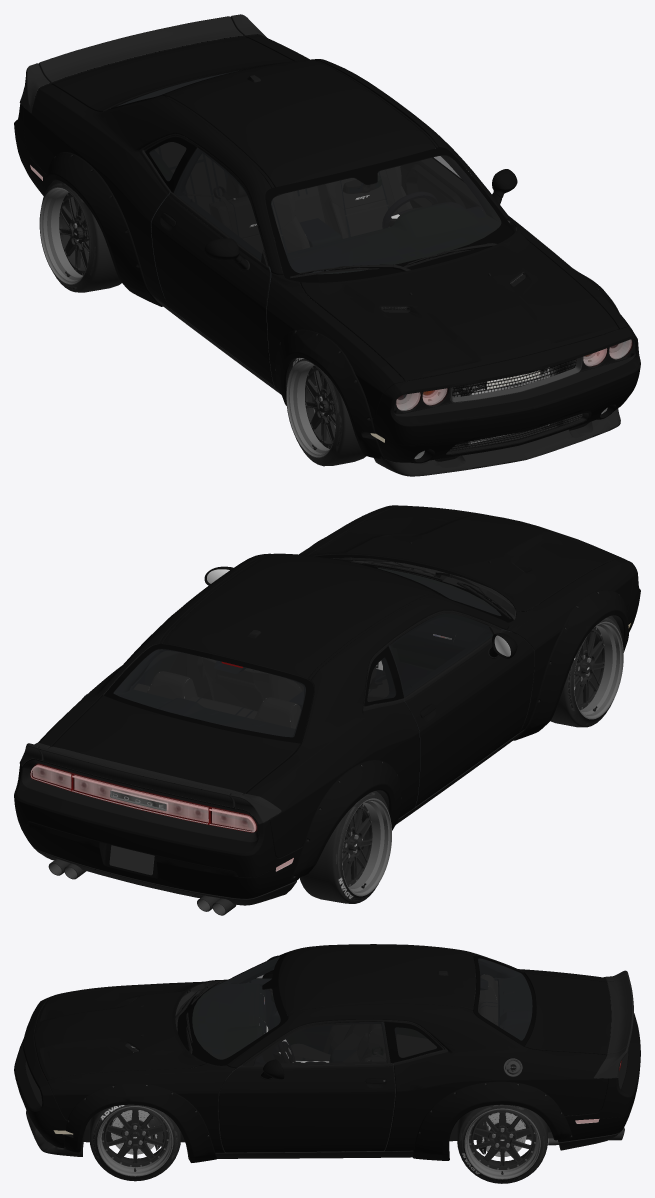
The model's file is car.glb.
The picture shows the model from 3 angles, top to bottom: view 1: azimuth 30°, elevation 25°; view 2: azimuth 150°, elevation 25°; view 3: azimuth 270°, elevation 25°; orthographic projection. The views are drawn at different scales.
Visible parts, largest first — view 1: LB_NFS:M_Carpaint_Max.011_CarPaint_0, LB_NFS:M_Interior_Max_inerior_0, LB_NFS:M_Glass_WindowRight_Max.004_Windwos_0, LB_NFS:M_Carpaint_Max.011_CarPAint_Plastic_0, LB_NFS:M_Opaque_ChromeSmooth_Max.003_chrome_0, LB_NFS:M_Glass_WindowSurroundRight_Max_glass_surr_0, off2, off1, LB_NFS:M_Chassis_Max.004_chassis_0, polySurface628_GR:Toyota_LBGRSupraRewardRecycled_2020_Wheel1, LB_NFS:M_GrilleA_Max_Grille_A_0, polySurface622_GR:Toyota_LBGRSupraRewardRecycled_2020_Wheel1 (+2 smaller); view 2: LB_NFS:M_Carpaint_Max.011_CarPaint_0, LB_NFS:M_Interior_Max_inerior_0, LB_NFS:M_Glass_WindowRight_Max.004_Windwos_0, LB_NFS:M_Carpaint_Max.011_CarPAint_Plastic_0, LB_NFS:M_Opaque_PlasticRoughBlack_Max.008_Plastic_R_0, LB_NFS:M_Glass_WindowSurroundRight_Max_glass_surr_0, LB_NFS:M_Light_Max.006_Light_0, LB_NFS:M_LightGlass_Clear_Max.003_red_glass_0, off2, off1, LB_NFS:M_Opaque_ChromeSmooth_Max.003_chrome_0, polySurface628_GR:Toyota_LBGRSupraRewardRecycled_2020_Wheel1 (+4 smaller); view 3: LB_NFS:M_Carpaint_Max.011_CarPaint_0, LB_NFS:M_Interior_Max_inerior_0, LB_NFS:M_Glass_WindowRight_Max.004_Windwos_0, off1, rim:off1, LB_NFS:M_Glass_WindowSurroundRight_Max_glass_surr_0, LB_NFS:M_Carpaint_Max.011_CarPAint_Plastic_0, LB_NFS:M_Opaque_ChromeSmooth_Max.003_chrome_0, polySurface625_GR:Toyota_LBGRSupraRewardRecycled_2020_Wheel1, polySurface619_GR:Toyota_LBGRSupraRewardRecycled_2020_Wheel1, LB_NFS:M_CarPaint_Trim_PlasticSmoothBlack_Max_CarPaint_Trim_, LB_NFS:M_Chassis_Max.004_chassis_0 (+3 smaller).
Part boxes in pixels (x1,y1,x2,y2): LB_NFS:M_Carpaint_Max.011_CarPaint_0: (14,35,640,463); LB_NFS:M_Interior_Max_inerior_0: (117,70,501,386); LB_NFS:M_Glass_WindowRight_Max.004_Windwos_0: (116,63,500,273); LB_NFS:M_Carpaint_Max.011_CarPAint_Plastic_0: (19,14,620,476); LB_NFS:M_Opaque_ChromeSmooth_Max.003_chrome_0: (114,70,636,454); LB_NFS:M_Glass_WindowSurroundRight_Max_glass_surr_0: (107,59,514,287); off2: (39,187,90,284); off1: (286,360,336,458); LB_NFS:M_Chassis_Max.004_chassis_0: (286,247,616,463); polySurface628_GR:Toyota_LBGRSupraRewardRecycled_2020_Wheel1: (41,180,121,292); LB_NFS:M_GrilleA_Max_Grille_A_0: (381,273,582,450); polySurface622_GR:Toyota_LBGRSupraRewardRecycled_2020_Wheel1: (286,358,366,466); LB_NFS:M_Carpaint_Max.011_CarPaint_0: (14,505,640,898); LB_NFS:M_Interior_Max_inerior_0: (113,568,517,807); LB_NFS:M_Glass_WindowRight_Max.004_Windwos_0: (114,558,500,736); LB_NFS:M_Carpaint_Max.011_CarPAint_Plastic_0: (19,742,299,905); LB_NFS:M_Opaque_PlasticRoughBlack_Max.008_Plastic_R_0: (21,542,523,842); LB_NFS:M_Glass_WindowSurroundRight_Max_glass_surr_0: (103,556,513,743); LB_NFS:M_Light_Max.006_Light_0: (30,623,630,871); LB_NFS:M_LightGlass_Clear_Max.003_red_glass_0: (30,662,293,870); off2: (341,798,391,896); off1: (573,621,623,719); LB_NFS:M_Opaque_ChromeSmooth_Max.003_chrome_0: (73,557,511,824); polySurface628_GR:Toyota_LBGRSupraRewardRecycled_2020_Wheel1: (299,791,389,903); LB_NFS:M_Carpaint_Max.011_CarPaint_0: (14,944,640,1162); LB_NFS:M_Interior_Max_inerior_0: (192,956,532,1152); LB_NFS:M_Glass_WindowRight_Max.004_Windwos_0: (192,956,532,1065); off1: (464,1108,540,1179); rim:off1: (97,1105,173,1176); LB_NFS:M_Glass_WindowSurroundRight_Max_glass_surr_0: (177,952,536,1065); LB_NFS:M_Carpaint_Max.011_CarPAint_Plastic_0: (26,970,633,1156); LB_NFS:M_Opaque_ChromeSmooth_Max.003_chrome_0: (25,955,532,1106); polySurface625_GR:Toyota_LBGRSupraRewardRecycled_2020_Wheel1: (457,1104,547,1183); polySurface619_GR:Toyota_LBGRSupraRewardRecycled_2020_Wheel1: (89,1104,181,1181); LB_NFS:M_CarPaint_Trim_PlasticSmoothBlack_Max_CarPaint_Trim_: (215,1150,413,1158); LB_NFS:M_Chassis_Max.004_chassis_0: (47,1081,576,1161).
Bounding box in the file's own units: 0.0219 × 0.0141 × 0.0502.
28 materials, 15 textured.
